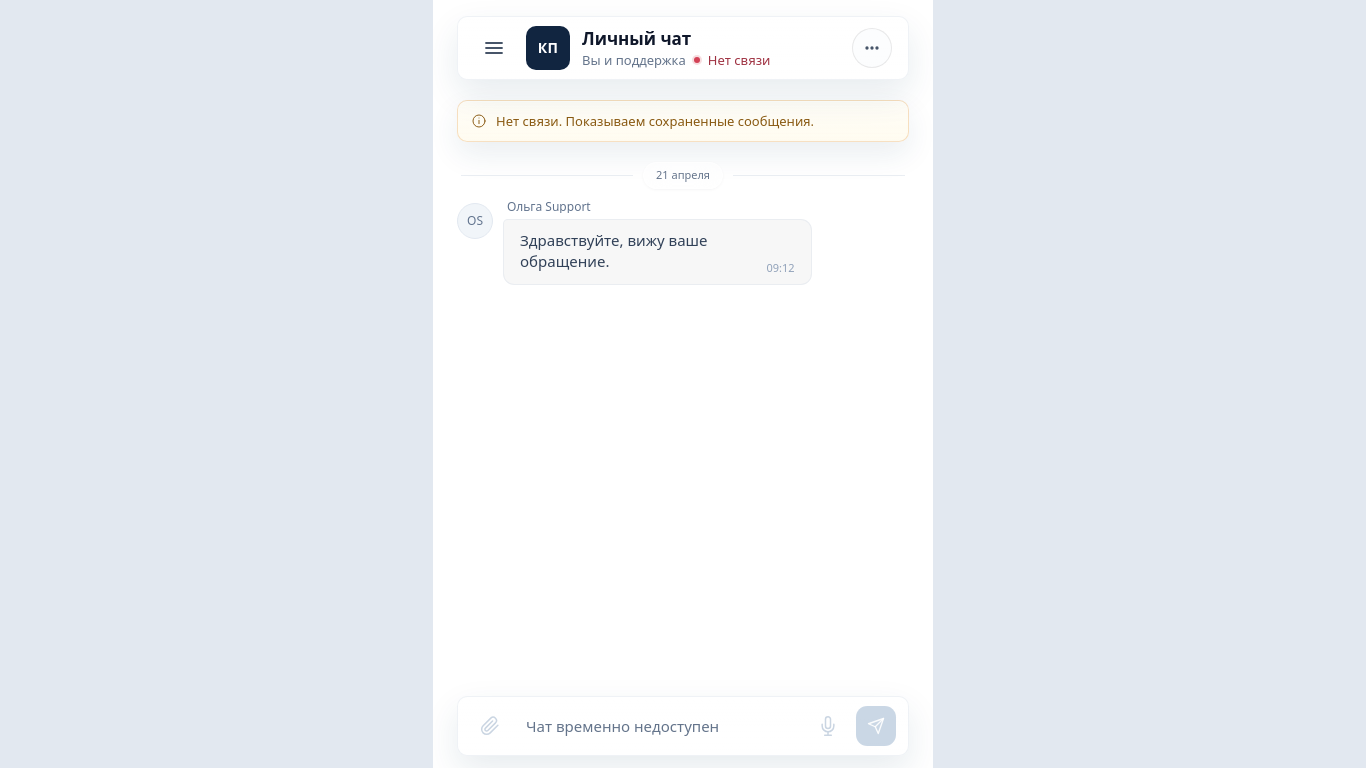
Test: ChatPage thread selection › switches from the private chat to a group chat from the header menu
Expected: the text "Здравствуйте, вижу ваше обращение." is shown, left=520, top=230, right=712, bottom=271
Click the button named "Открыть навигацию" at {"x": 494, "y": 48}, box left=474, top=28, right=514, bottom=68
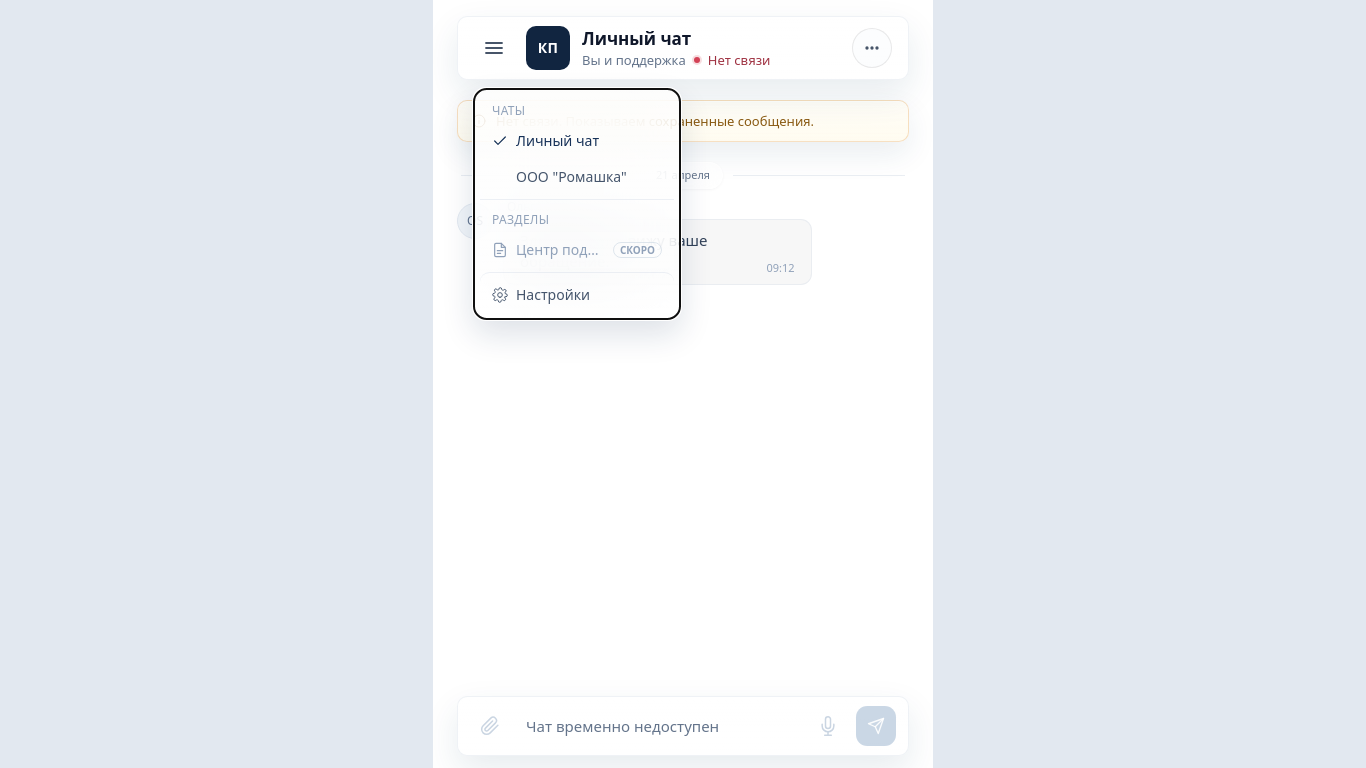
Click the menu item "ООО \"Ромашка\"" at {"x": 577, "y": 177}, box left=480, top=159, right=674, bottom=195
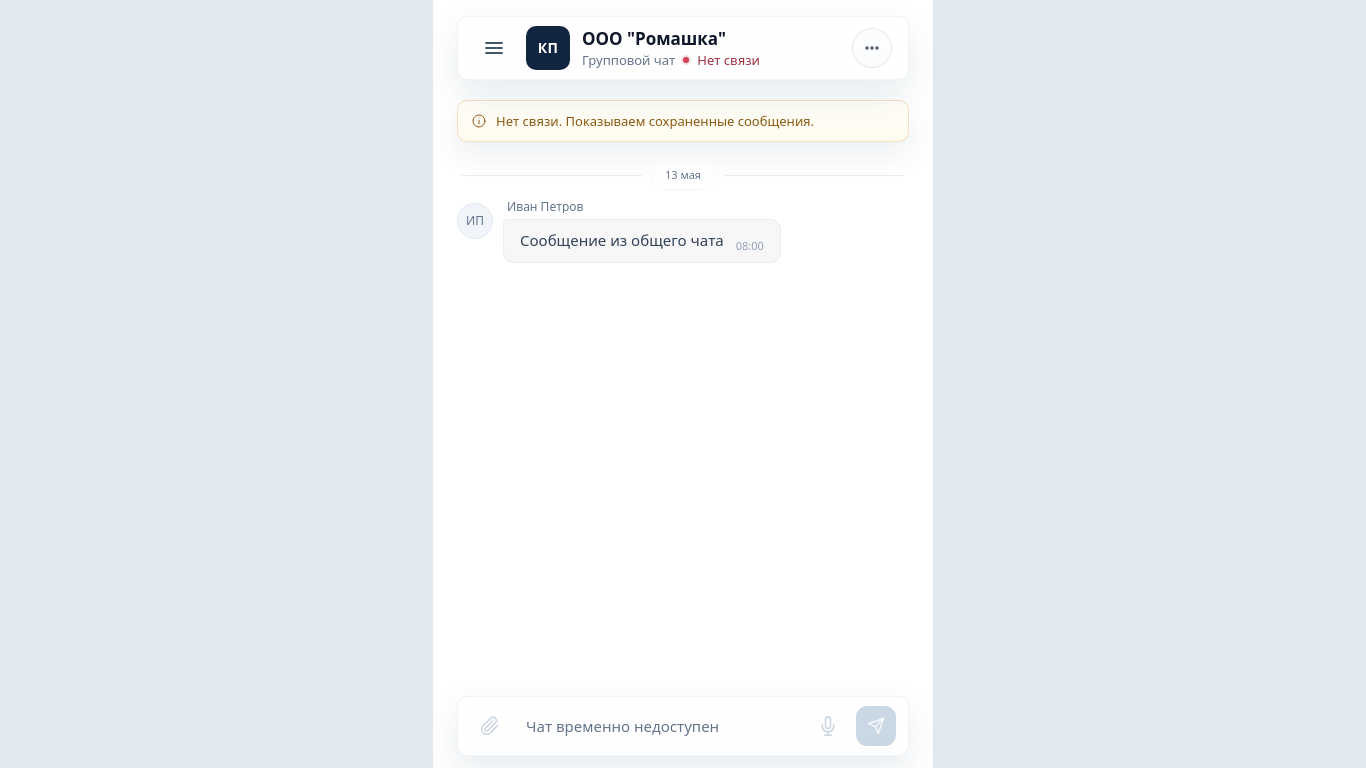
Now the heading "ООО \"Ромашка\"" is shown, box left=582, top=27, right=726, bottom=50
Now the text "Сообщение из общего чата" is shown, box left=520, top=230, right=724, bottom=250
